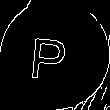P_N: (34, 28, 76, 82)
